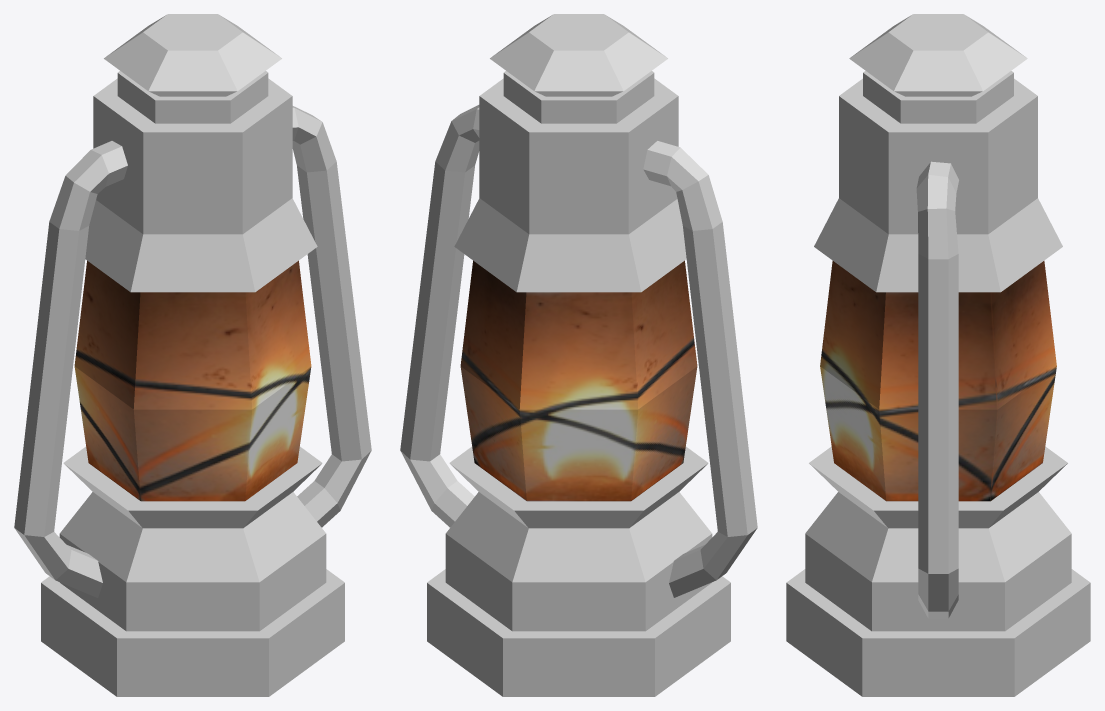
File: Lantern.fbx
3 renders of one model, left to right at view 1: azimuth 30°, elevation 25°; view 2: azimuth 150°, elevation 25°; view 3: azimuth 270°, elevation 25°, orthographic.
Visible parts, largest first — view 1: Cylinder.001; view 2: Cylinder.001; view 3: Cylinder.001.
Part boxes in pixels (x1,y1,x2,y2): Cylinder.001: (14,14,371,696); Cylinder.001: (400,14,757,696); Cylinder.001: (786,14,1090,696).
Size of the model in its own units: 155 by 260 by 118.
